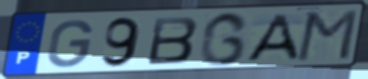9: (99, 16, 145, 69)
A: (243, 12, 302, 63)
B: (146, 15, 201, 67)
G: (197, 10, 252, 67), (45, 18, 95, 70)
M: (293, 8, 361, 63)
